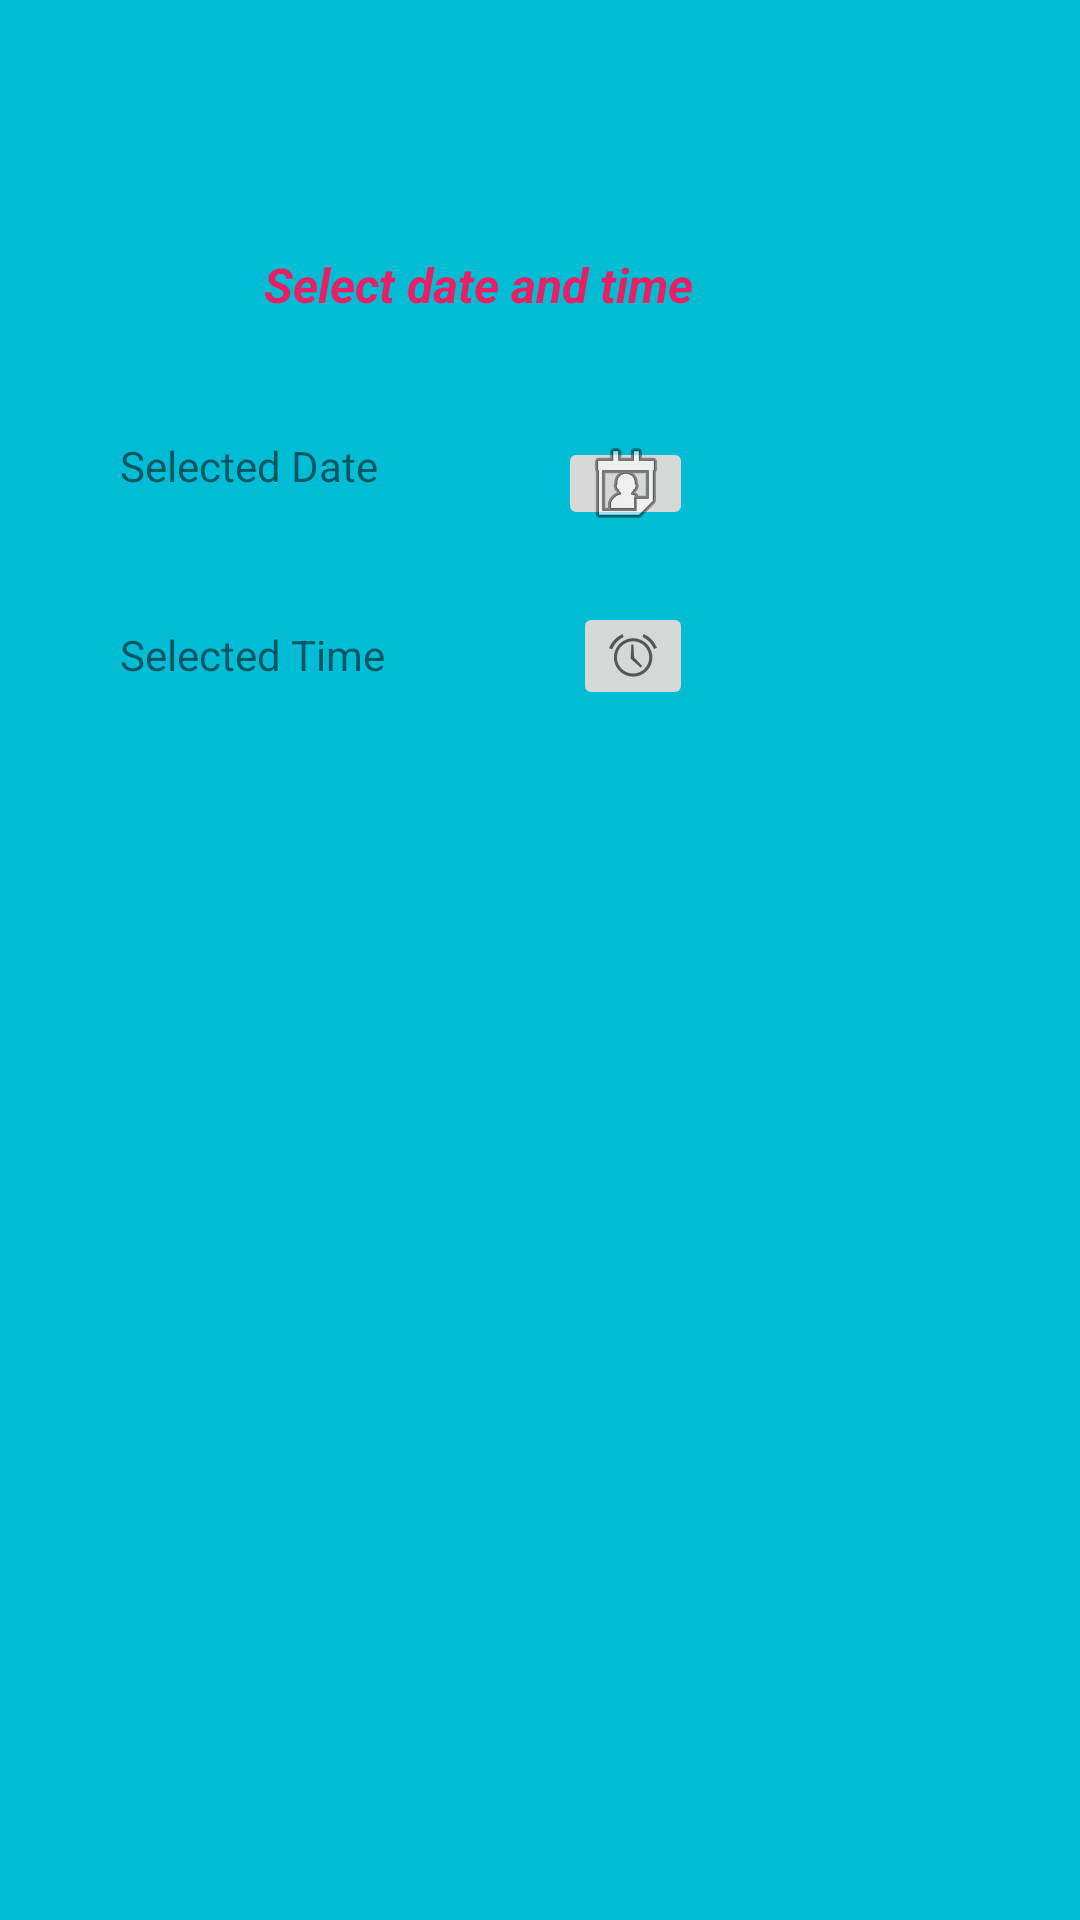

Named icons in this screenshot (1080px x 1920px) and their centers, (x=x, y=y):
calendar: (x=625, y=483)
